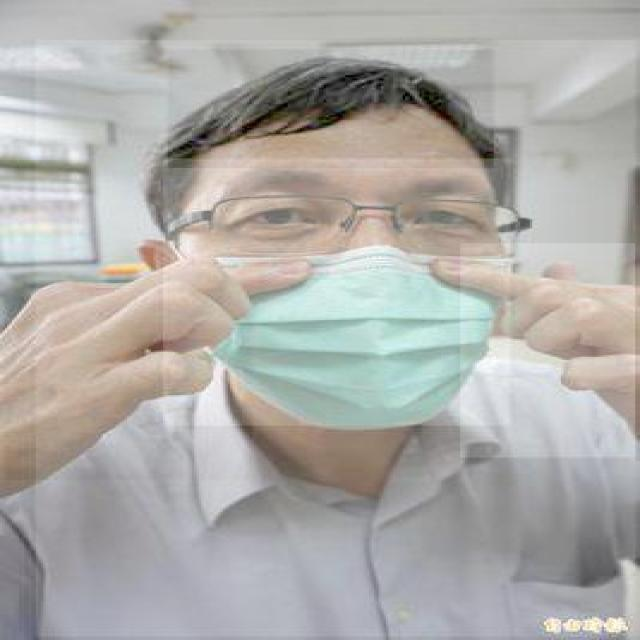face_mask: (163, 158, 511, 426)
glasses: (199, 190, 520, 261)
hand_noglove: (5, 263, 254, 482), (460, 243, 638, 459)
head_nohelmet: (168, 49, 496, 170)
person: (36, 40, 638, 638)
